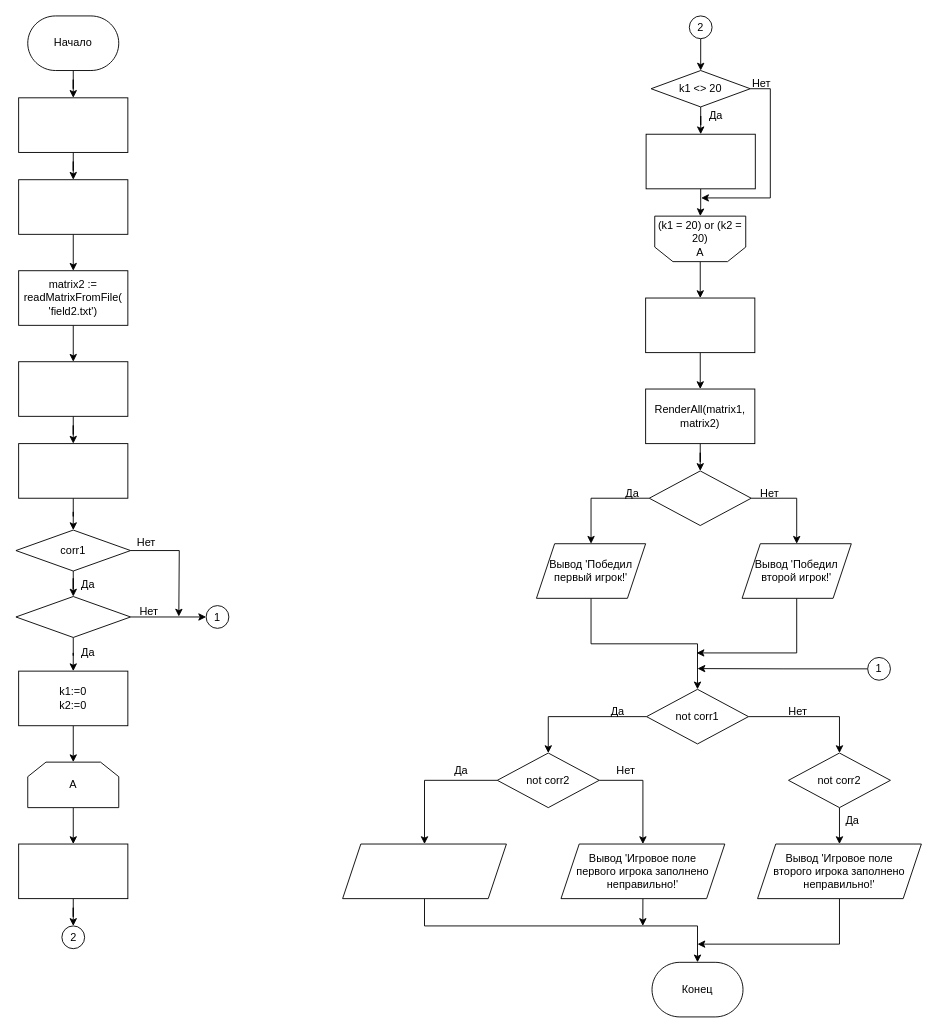
Some shapes in this 937 by 1033 pixel diagram are drawn without their labels. The box of each missing label's shape, as (x1, y1, x2, y2) in pixels:
ClearConsoleWindow: (645, 297, 755, 353)
corr1 := isCorrect(matrix1, ships1): (18, 361, 128, 416)
corr2: (15, 596, 131, 637)
corr2 := isCorrect(matrix2, ships2): (18, 443, 128, 498)
Game(matrix1, ships1, 2, k2): (645, 133, 755, 189)
Game(matrix2, ships2, 1, k1): (18, 843, 128, 899)
k1 = 20: (648, 470, 751, 526)
matrix1 := readMatrixFromFile( 'field1.txt'): (18, 179, 128, 234)
SetConsoleTitle( PChar('Морской бой')): (18, 97, 128, 152)
Вывод 'Оба игровых поля заполнены неправильно!': (342, 843, 506, 899)
